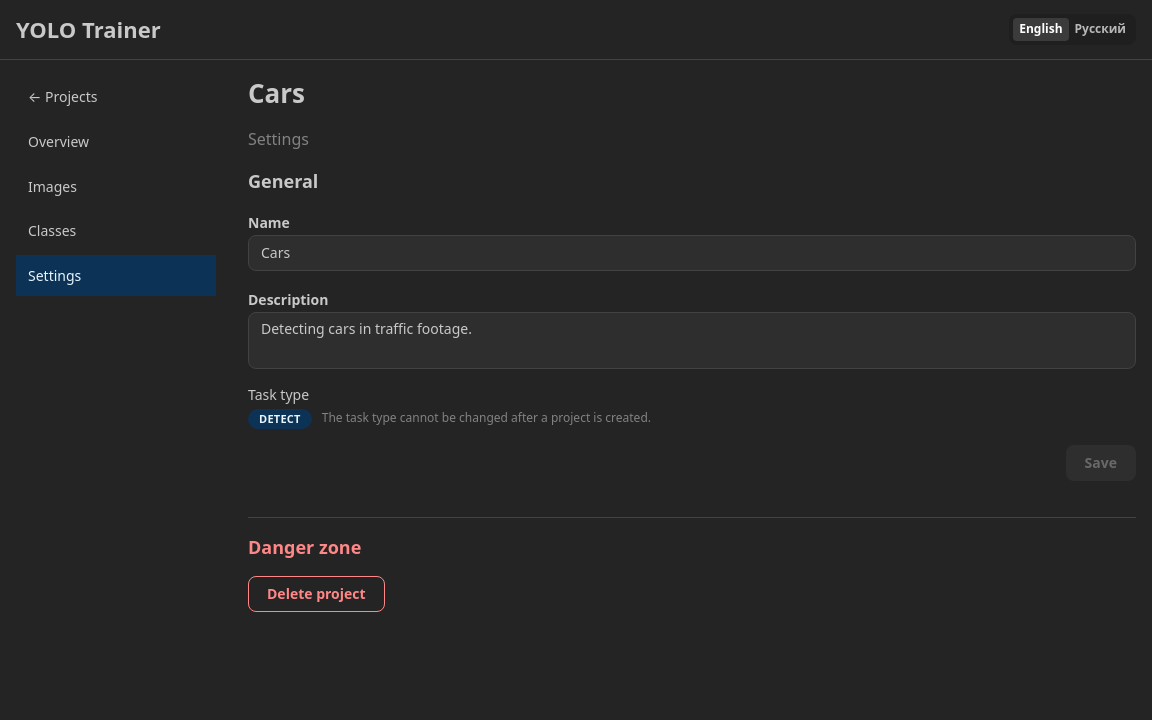
Test case: ProjectSettingsPage › shows the translated error title and the API detail verbatim on 409, keeping the user's input
The image size is (1152, 720).
Step 1. Replace the text in the field labelled "Name" with "Trucks" → [692, 253], box x1=248 y1=235 x2=1136 y2=271
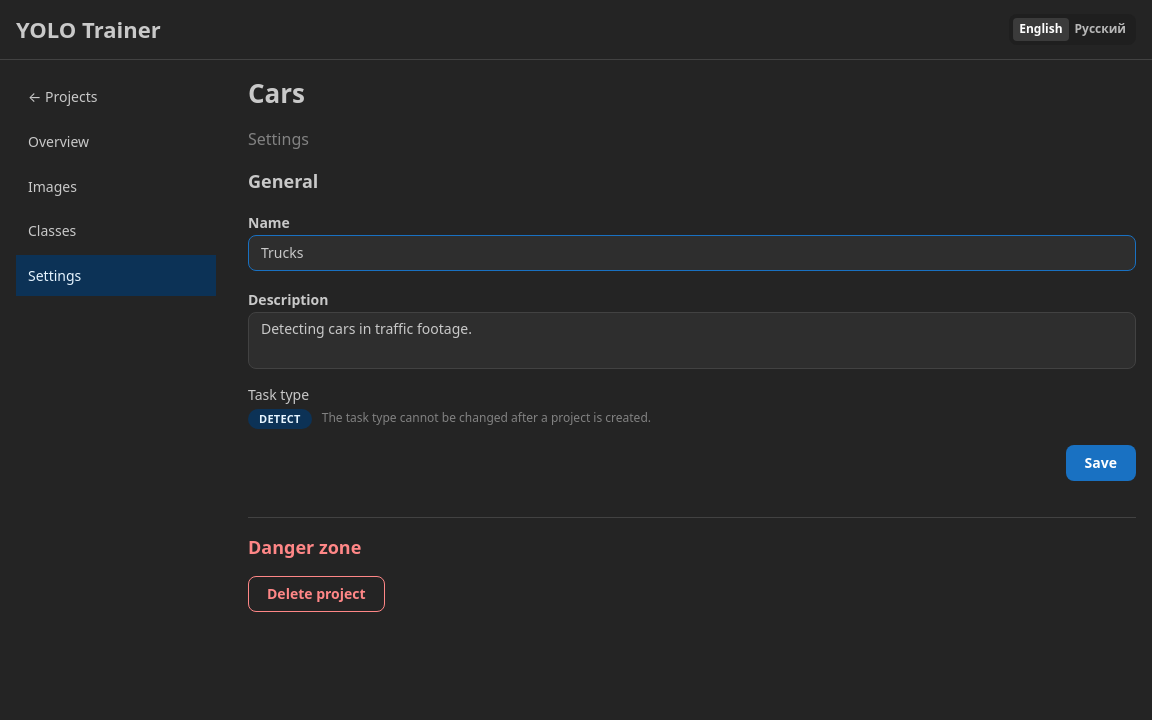
Step 2. Click the button "Save" → [1101, 463], box x1=1066 y1=445 x2=1136 y2=481
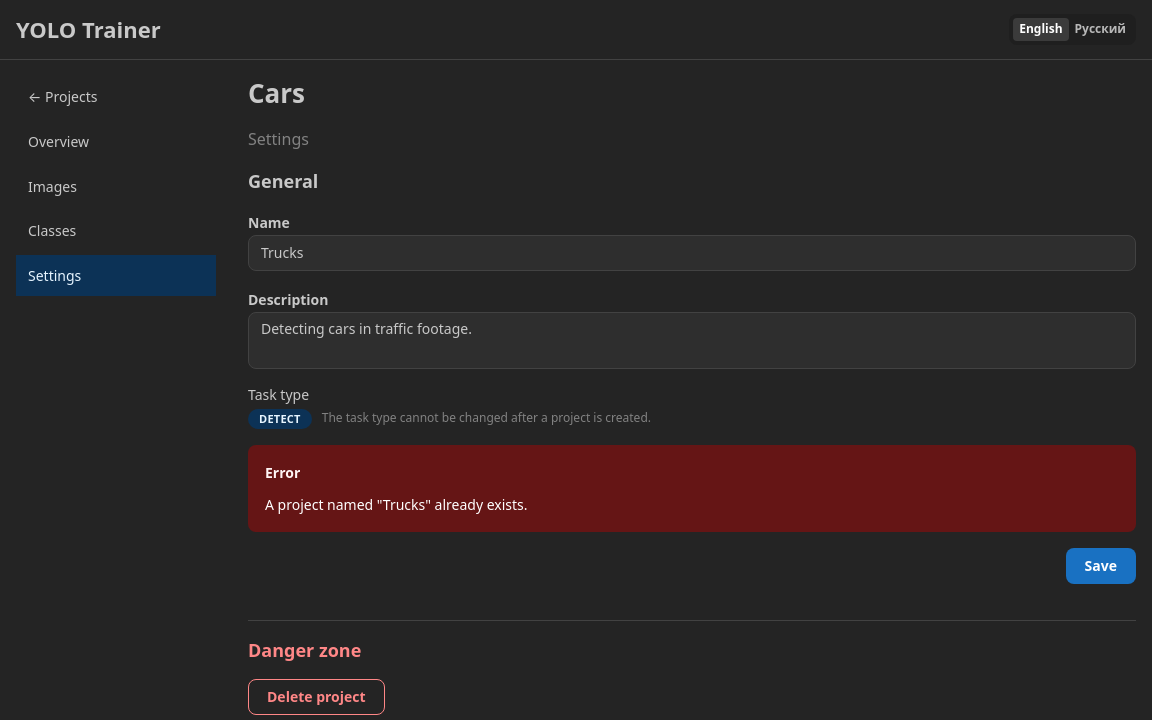
Check: the text "A project named \"Trucks\" already exists." is shown, box x1=265 y1=495 x2=528 y2=514
Check: the text "Error" is shown, box x1=265 y1=462 x2=300 y2=484
